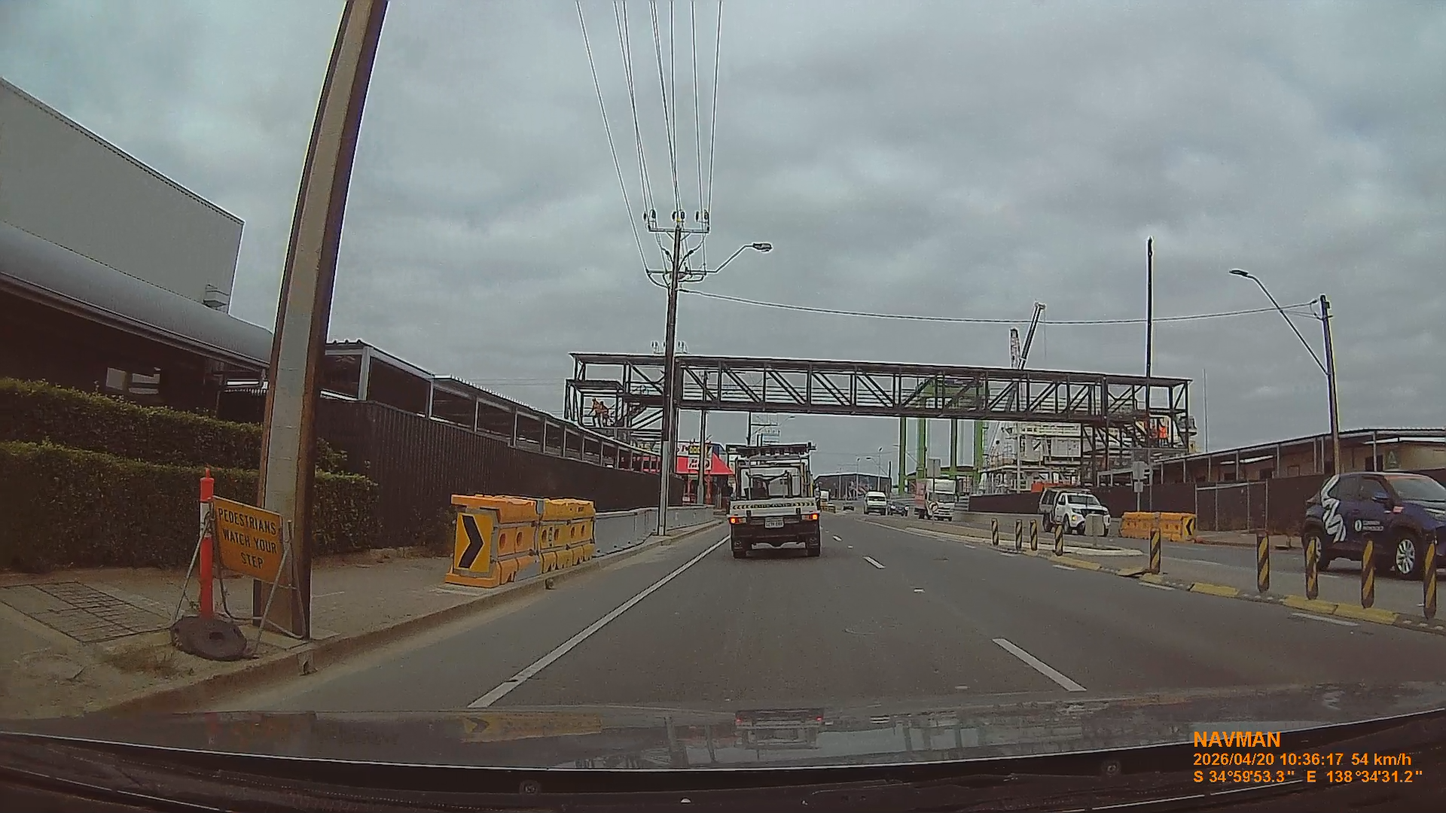fences: (316, 396, 658, 555), (969, 492, 1039, 514)
road barriers: (992, 519, 1445, 632), (445, 495, 541, 586), (538, 499, 595, 573), (594, 508, 657, 556), (1119, 512, 1196, 540), (989, 516, 1039, 550), (1423, 540, 1437, 619), (1304, 537, 1321, 601), (1362, 538, 1375, 607), (1257, 534, 1271, 593), (1148, 529, 1161, 574), (1056, 525, 1064, 556), (1032, 521, 1039, 552), (1016, 519, 1023, 550), (992, 518, 999, 546)
